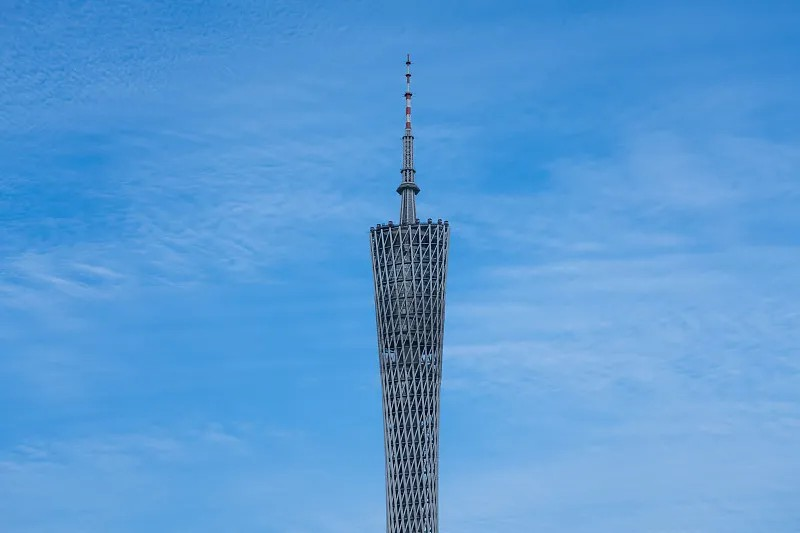Canton: (367, 53, 452, 533)
